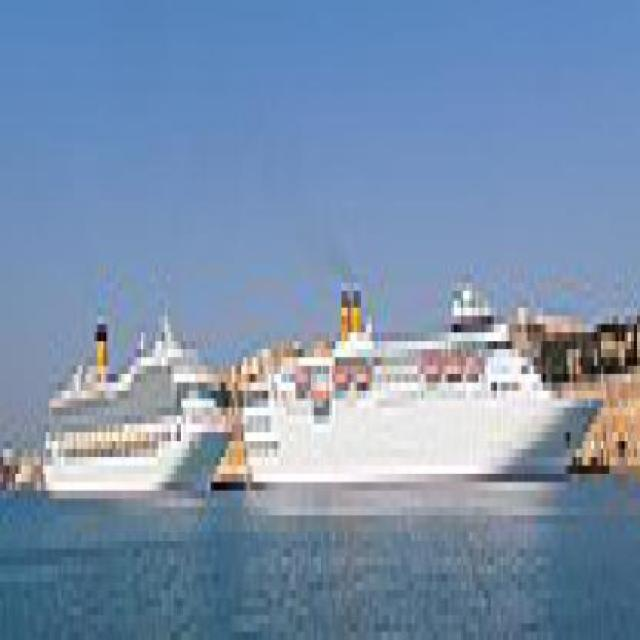cruise: (228, 283, 617, 517), (40, 291, 236, 525)
